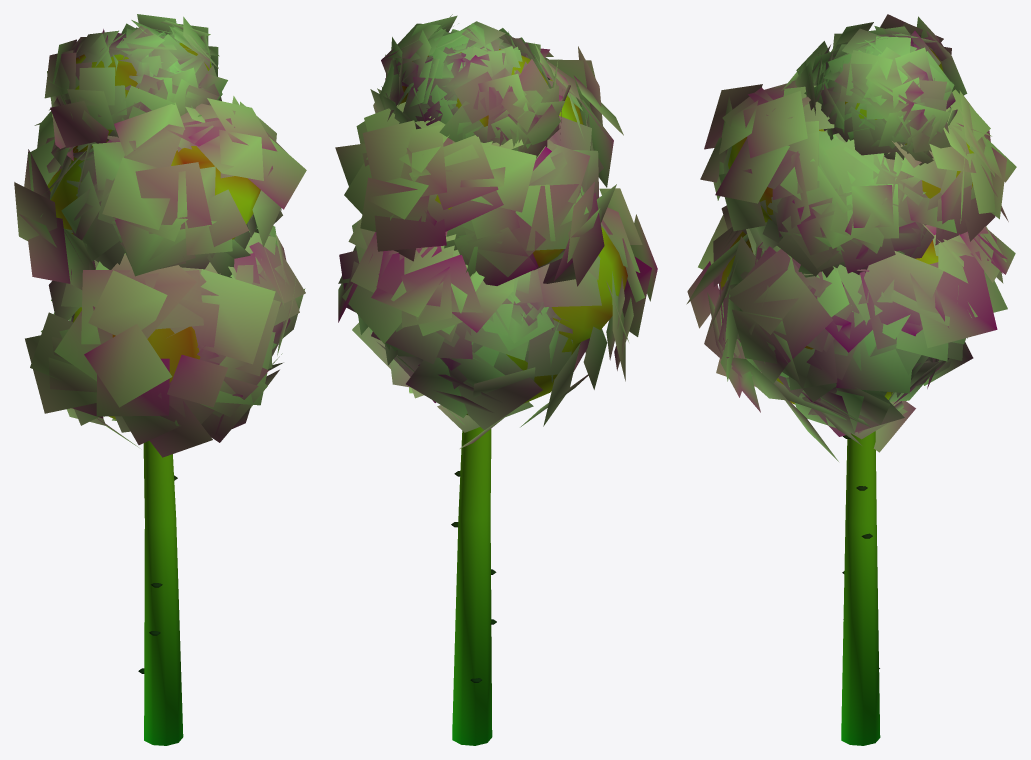
Rendered from tree_birch_a.glb.
3 views of the same model, side by side, from view 1: azimuth 30°, elevation 25°; view 2: azimuth 150°, elevation 25°; view 3: azimuth 270°, elevation 25° (orthographic). The views are drawn at different scales.
Parts seen in each view (by area): view 1: tree_birch_a; view 2: tree_birch_a; view 3: tree_birch_a.
Boxes of the visible parts, x1,y1,x2,y2 form: tree_birch_a: [14, 14, 306, 745]; tree_birch_a: [335, 14, 657, 745]; tree_birch_a: [686, 14, 1016, 745].
Size of what is drawn, in the model's own units: 2.9 by 7.69 by 3.3.
